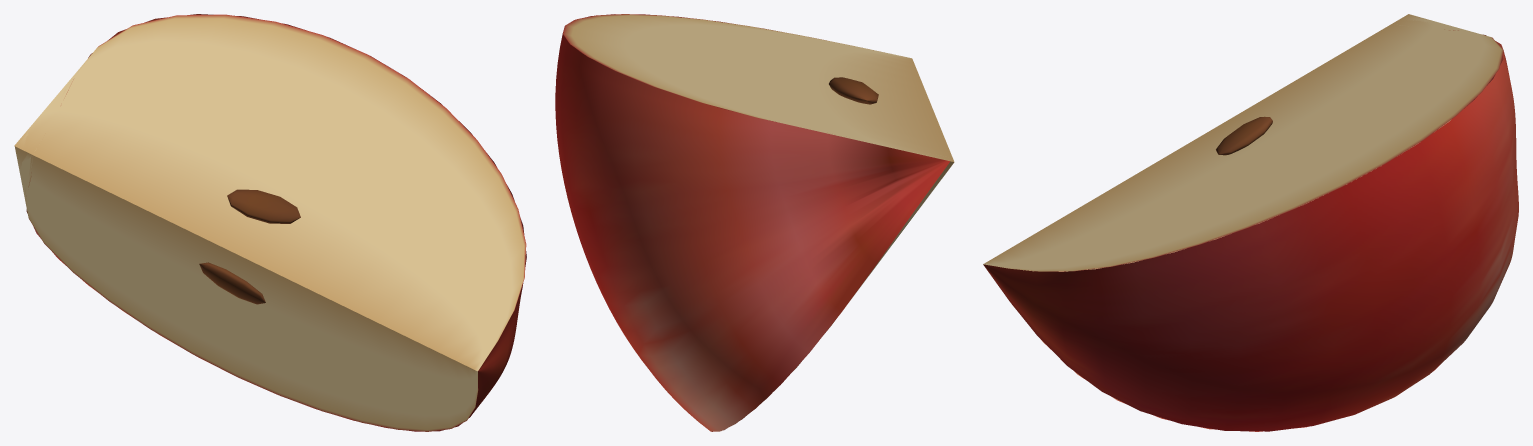
File: apple_wedge.glb
3 views of the same model, side by side, from view 1: azimuth 30°, elevation 25°; view 2: azimuth 150°, elevation 25°; view 3: azimuth 270°, elevation 25° (orthographic). The views are drawn at different scales.
Parts seen in each view (by area): view 1: Plant; view 2: Plant; view 3: Plant.
Boxes of the visible parts, bbox=[...] form: Plant: bbox=[14, 14, 526, 431]; Plant: bbox=[555, 14, 954, 431]; Plant: bbox=[983, 14, 1518, 431].
Bounding box in the file's own units: 0.2173 × 0.1822 × 0.2643.
